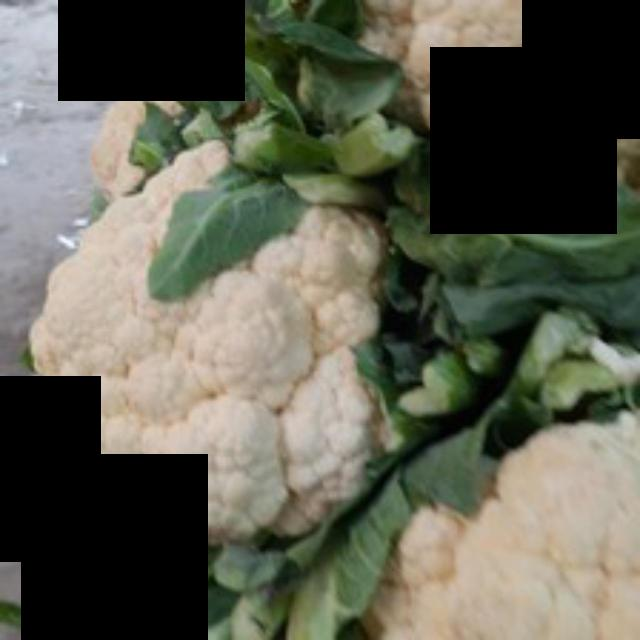cauliflower: (40, 134, 422, 545)
